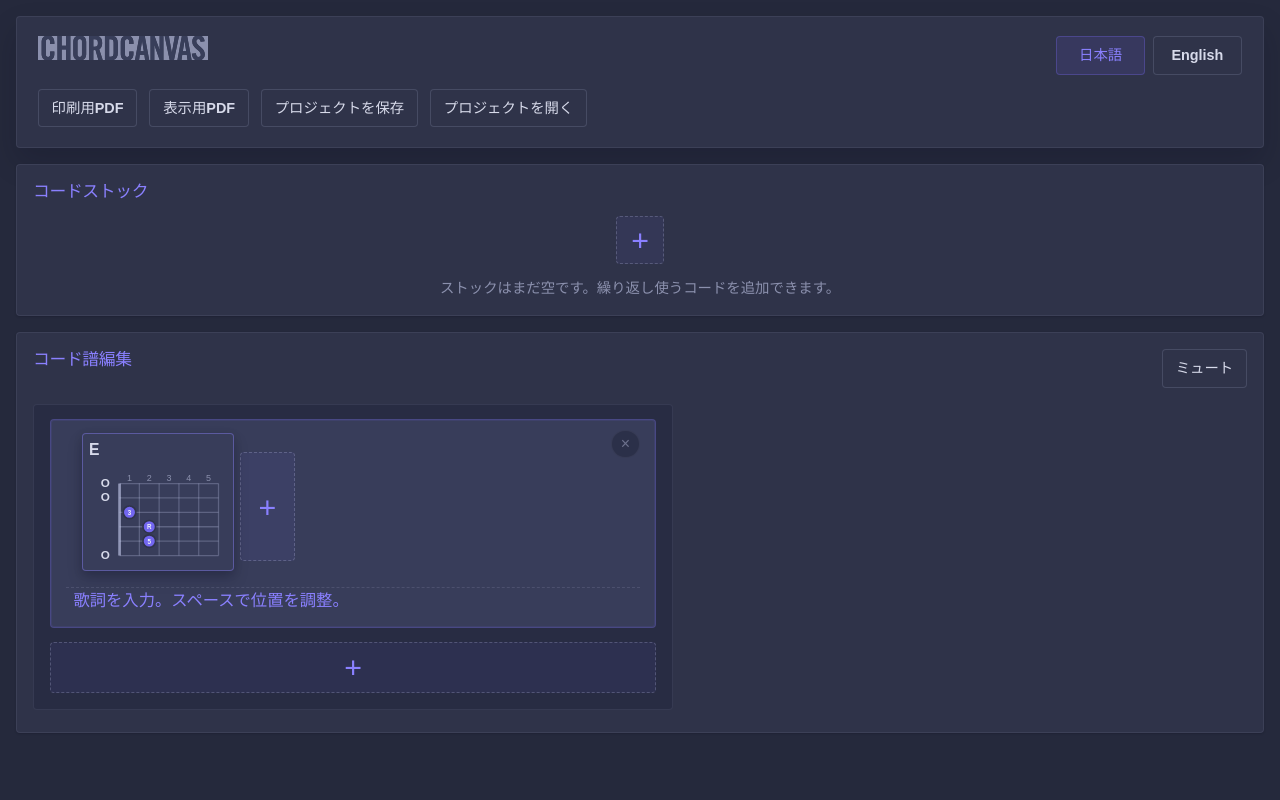
Scenario: App › shows layout actions only after explicit block selection and keeps rows compact
The image size is (1280, 800).
Click the button "E 1 2 3 4 5 O 5 R 3 O O": (158,502) [83,434,233,570]
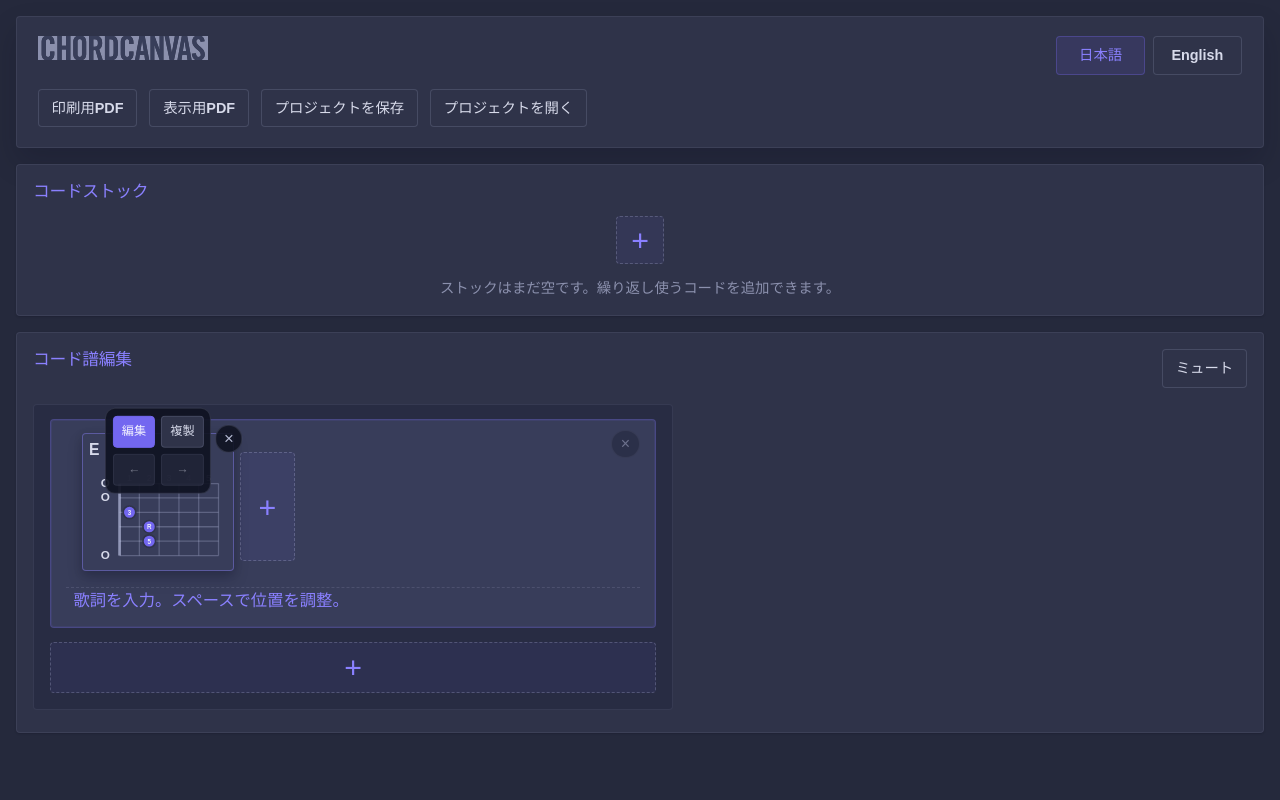
Now the button "編集" is shown, box [113,416,155,448]
Now the button named "E をレイアウトから削除" is shown, box [215,425,242,452]
Click the button named "行を追加": (353,668) [50,642,656,693]
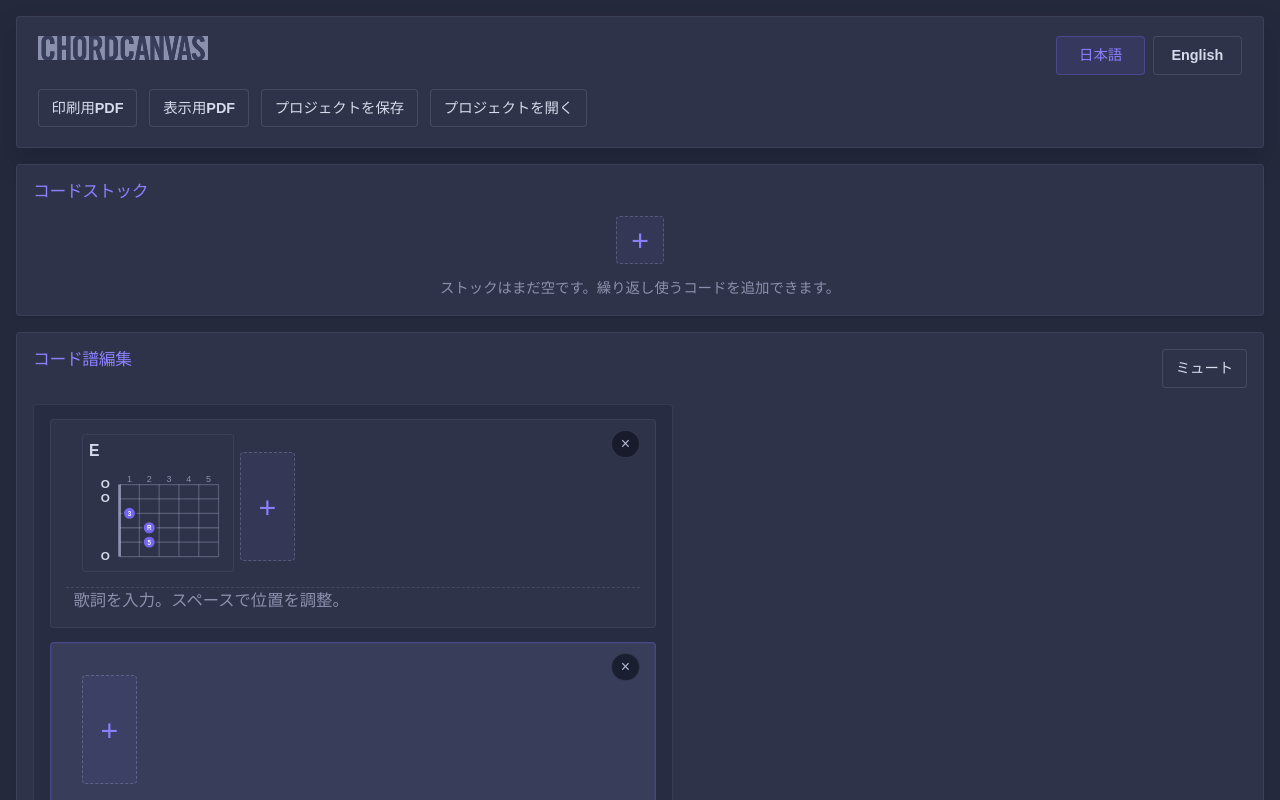
Click the 3rd button "+": (109,730) [82,675,137,784]
(page scrolled)
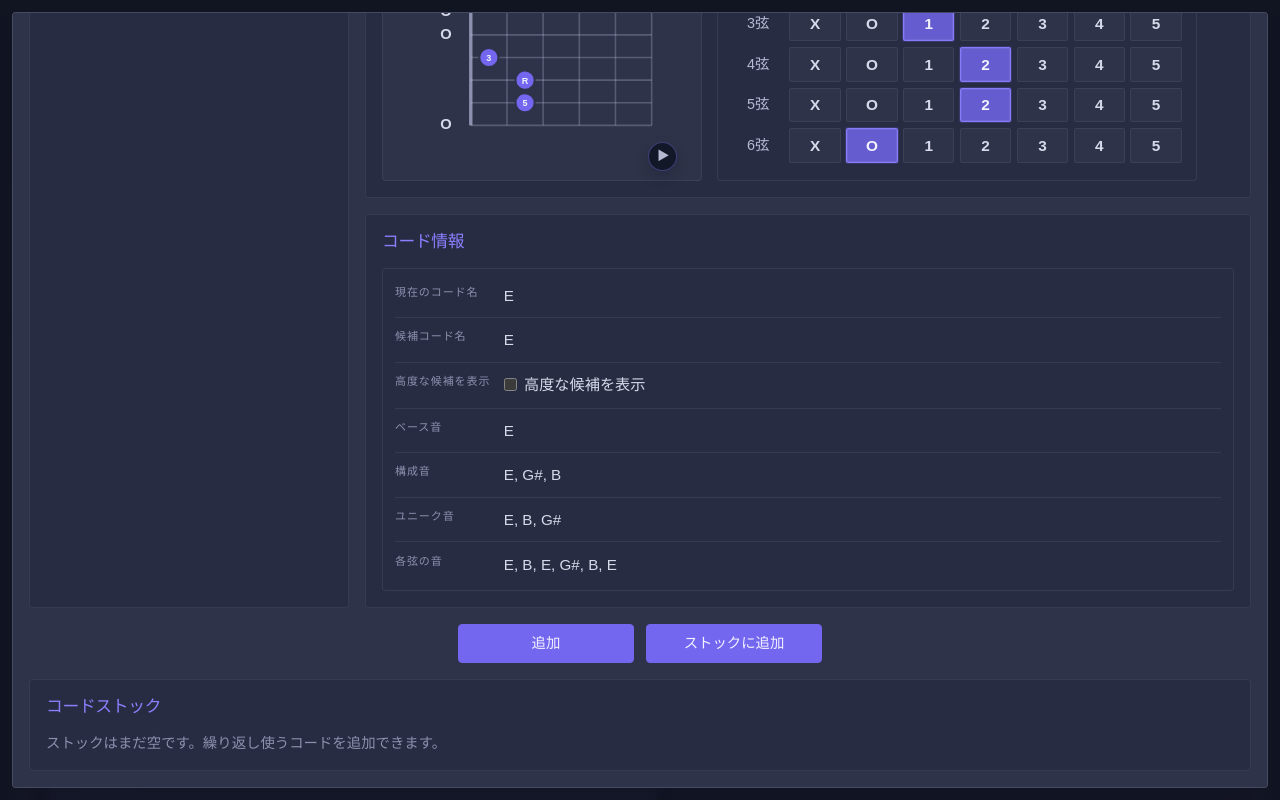
Click the button "追加": (546,643) [458,624,634,662]
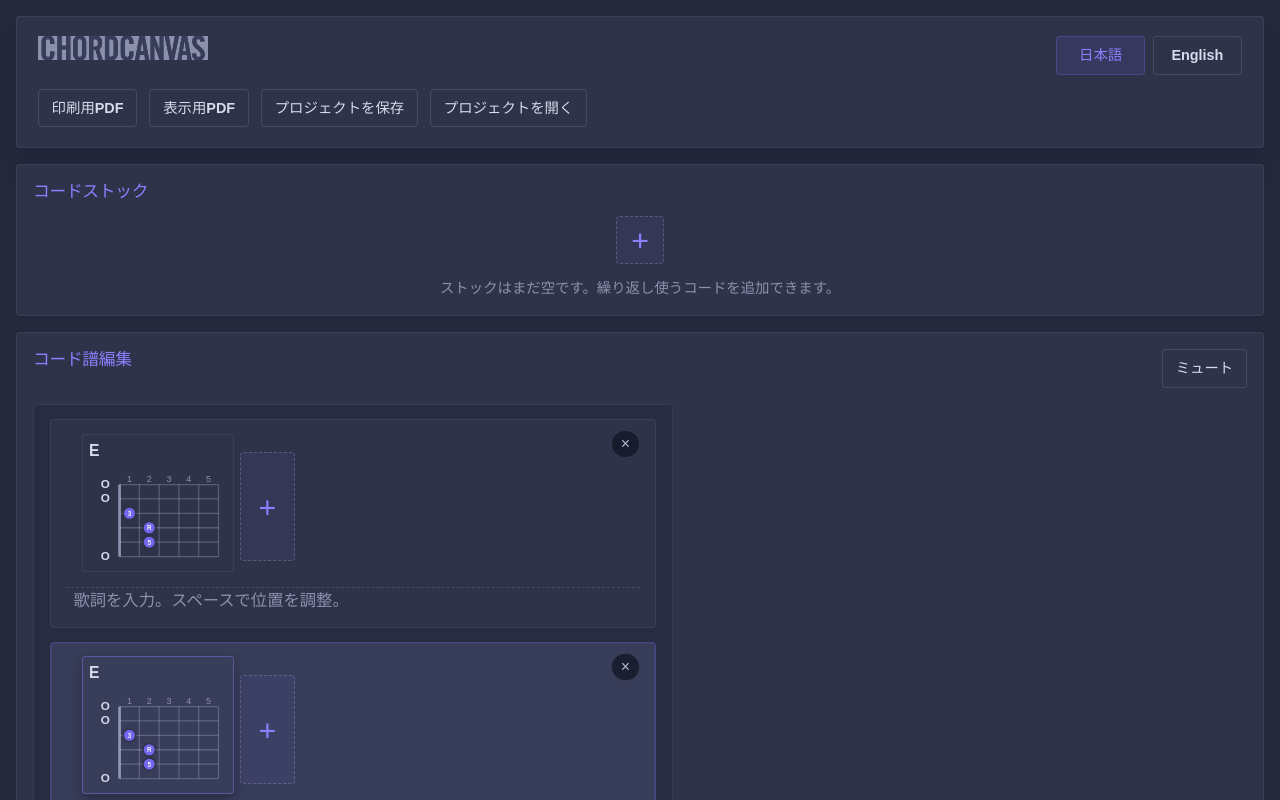
Click the 2nd button "E 1 2 3 4 5 O 5 R 3 O O": (158,725) [83,657,233,793]
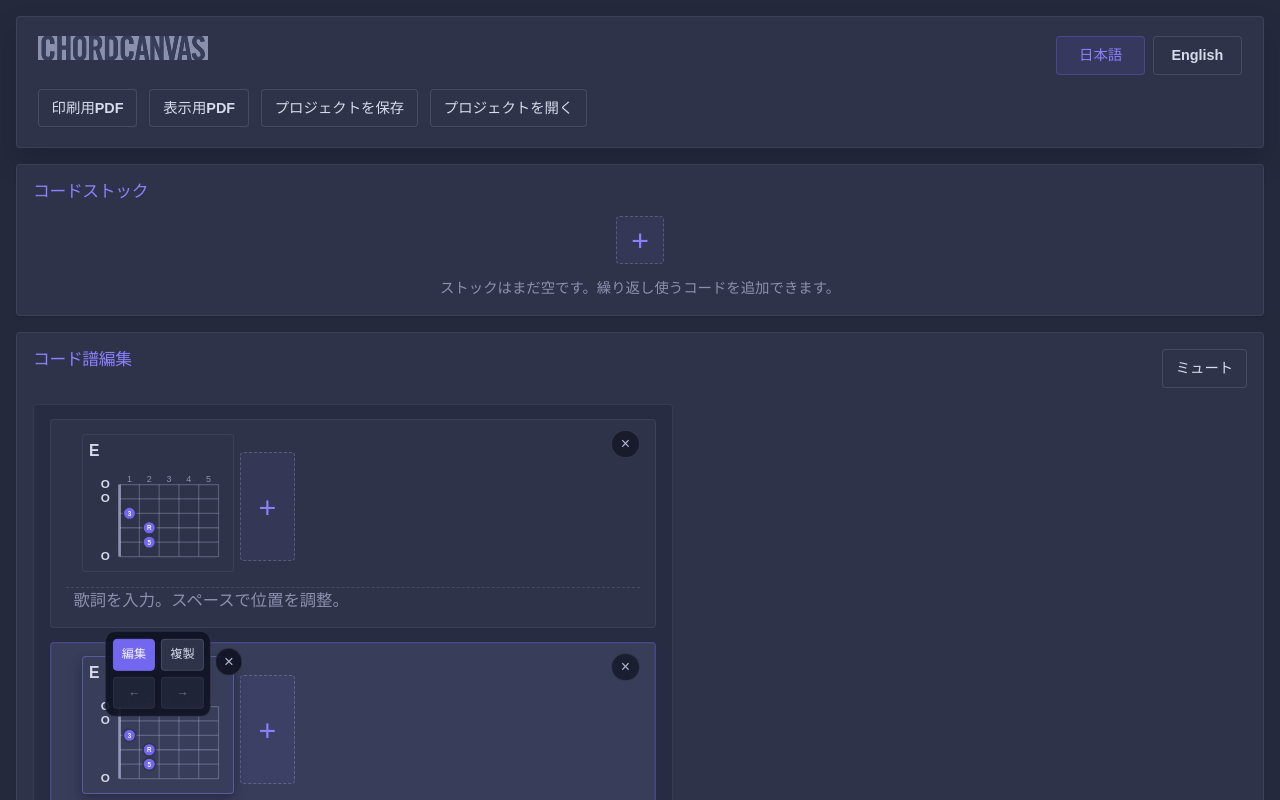
Now the button "編集" is shown, box [113,639,155,671]
Now the button "複製" is shown, box [161,639,204,671]
